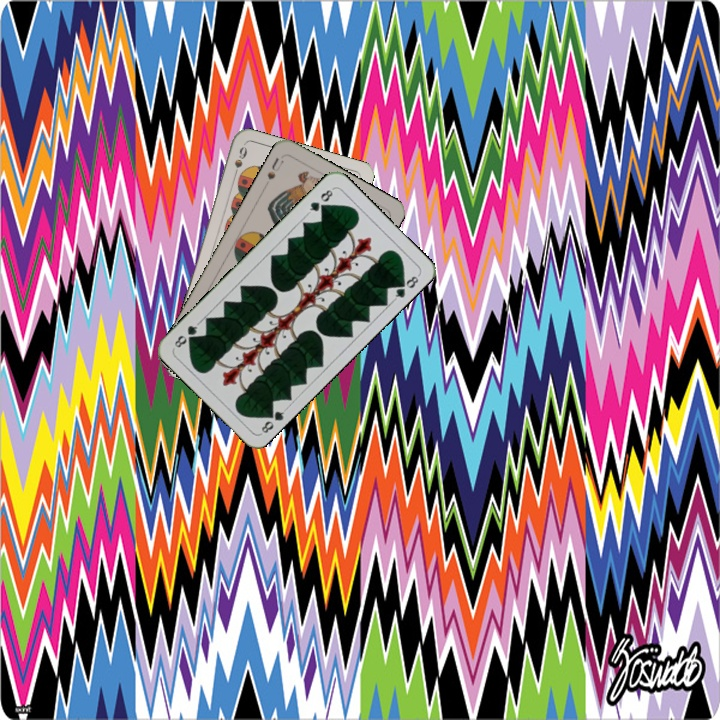G8: (304, 184, 336, 217), (257, 405, 289, 437)
S9: (229, 142, 250, 182)
SU: (263, 153, 286, 182)
